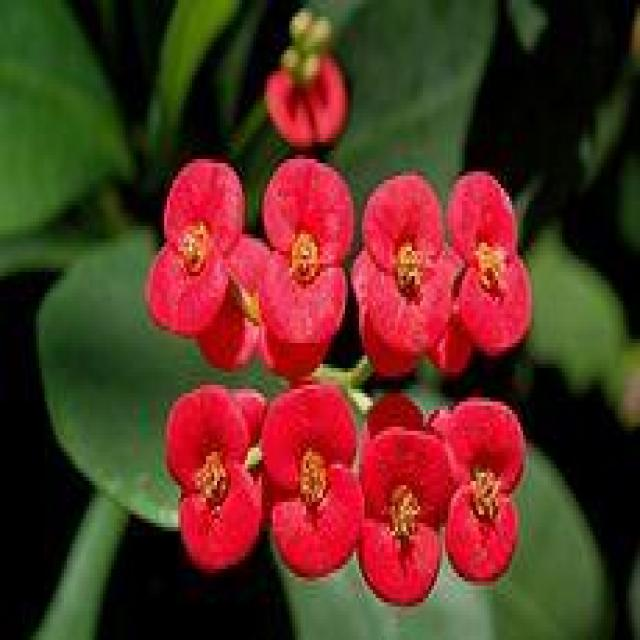organic waste: (263, 374, 369, 584), (431, 393, 537, 594), (430, 153, 536, 349), (163, 368, 263, 569), (157, 150, 263, 338), (349, 161, 447, 362), (352, 420, 449, 622), (252, 142, 346, 335)
